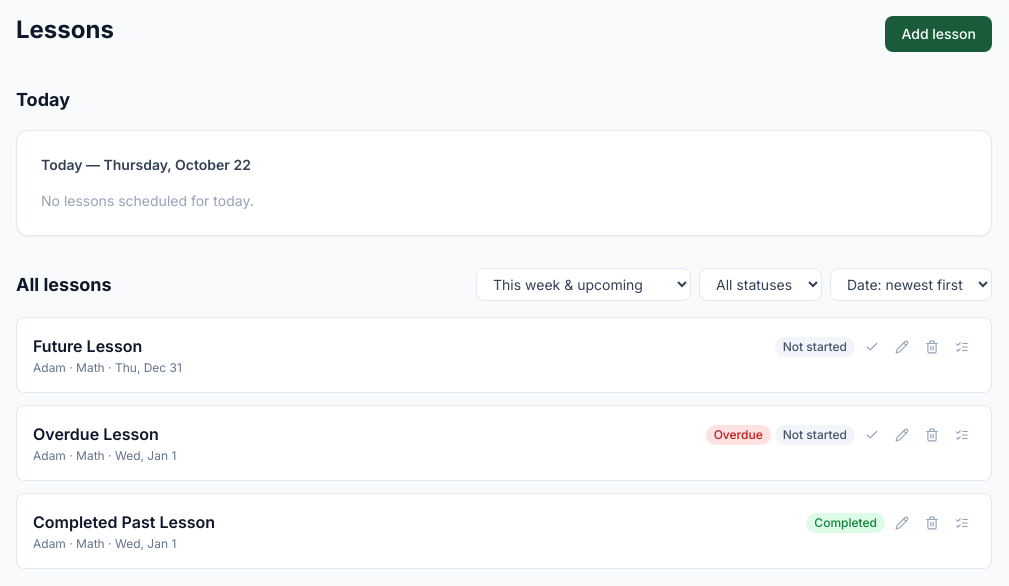
Test: LessonsPage › Overdue filter shows a past-due not_started lesson but not a completed one due the same day
The width and height of the screenshot is (1009, 586).
Expected: the text "Overdue Lesson" is shown, [33,424,159,444]
Select "Overdue" in the 1st dropdown named "Overdue". click: (760, 284)
box: [699,268,822,301]
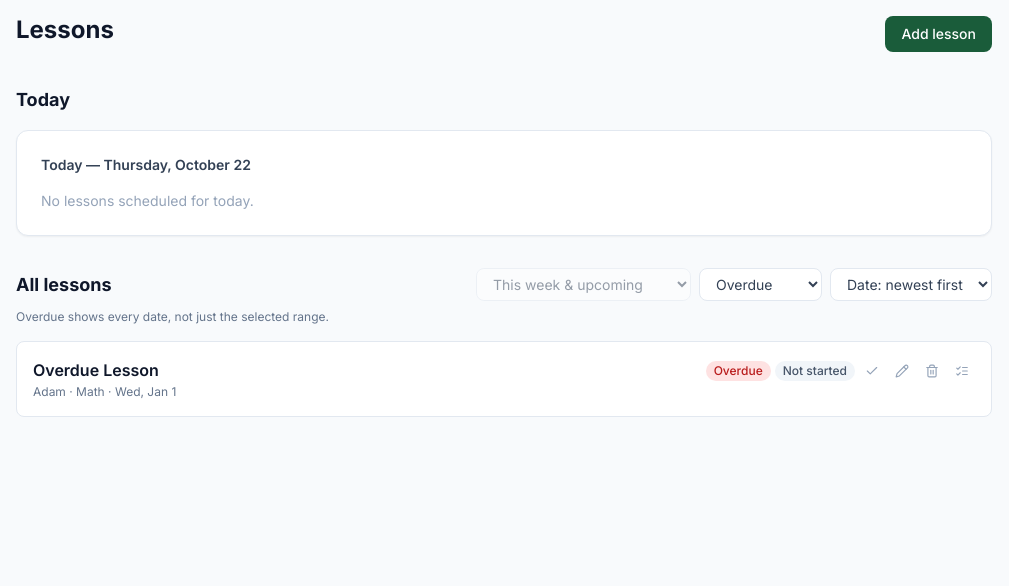
Expected: the text "Overdue Lesson" is shown, [33,360,159,380]
Expected: the text "Completed Past Lesson" is gone
Expected: the text "Future Lesson" is gone
